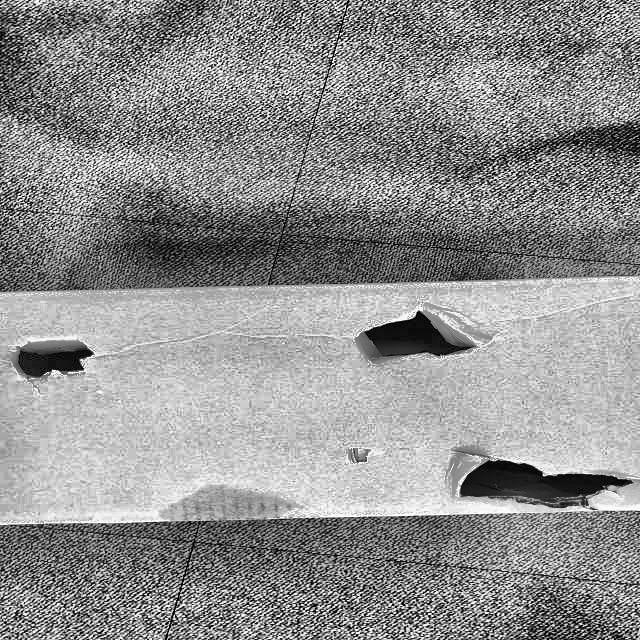box: (0, 272, 640, 532)
hole: (441, 457, 640, 509), (348, 305, 513, 364), (7, 337, 119, 381)
wet: (153, 486, 305, 526)
